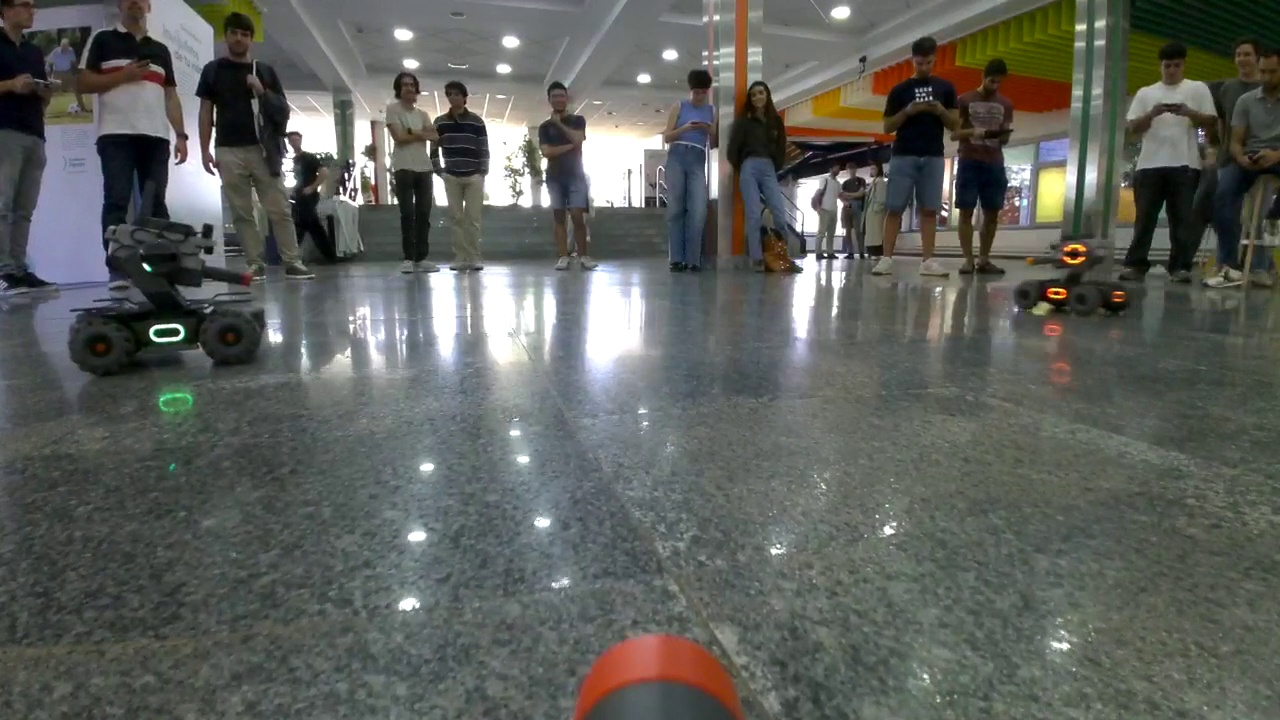robot: (69, 217, 264, 370), (1014, 234, 1129, 313)
